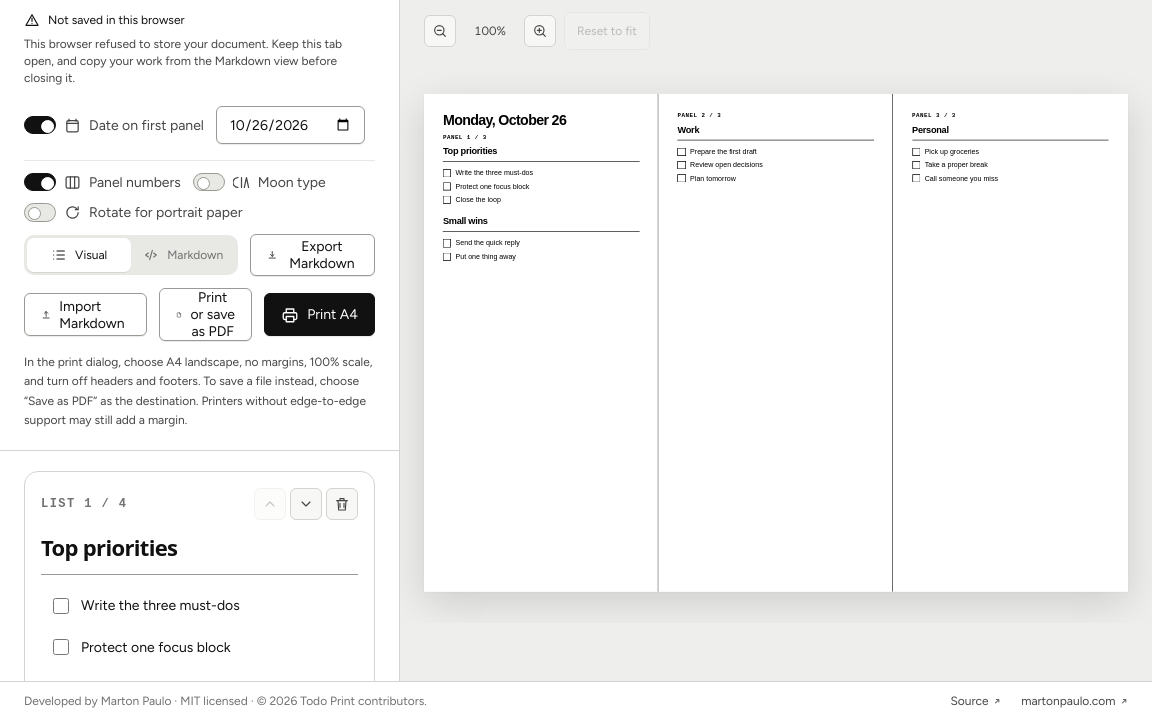
Scenario: App › marks the document unsaved when the browser refuses the write, then clears it once a write succeeds
Step 1. Type "!" into the 1st field → (200, 553), box [41, 532, 358, 575]
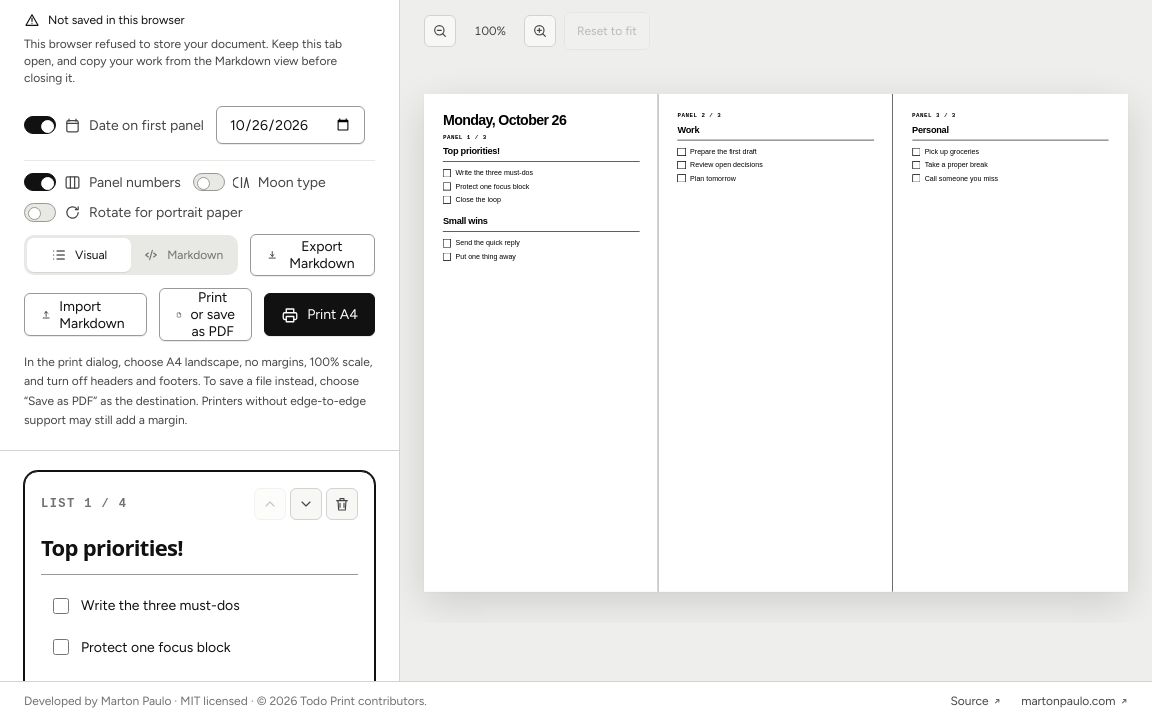
Check: the message reads "Not saved in this browser", box [48, 13, 184, 27]
Check: the text "This browser refused to store your document. Keep this tab open, and copy your work from the Markdown view before closin" is shown, box [24, 37, 342, 85]
Step 2. Type "?" into the 1st field → (200, 553), box [41, 532, 358, 575]
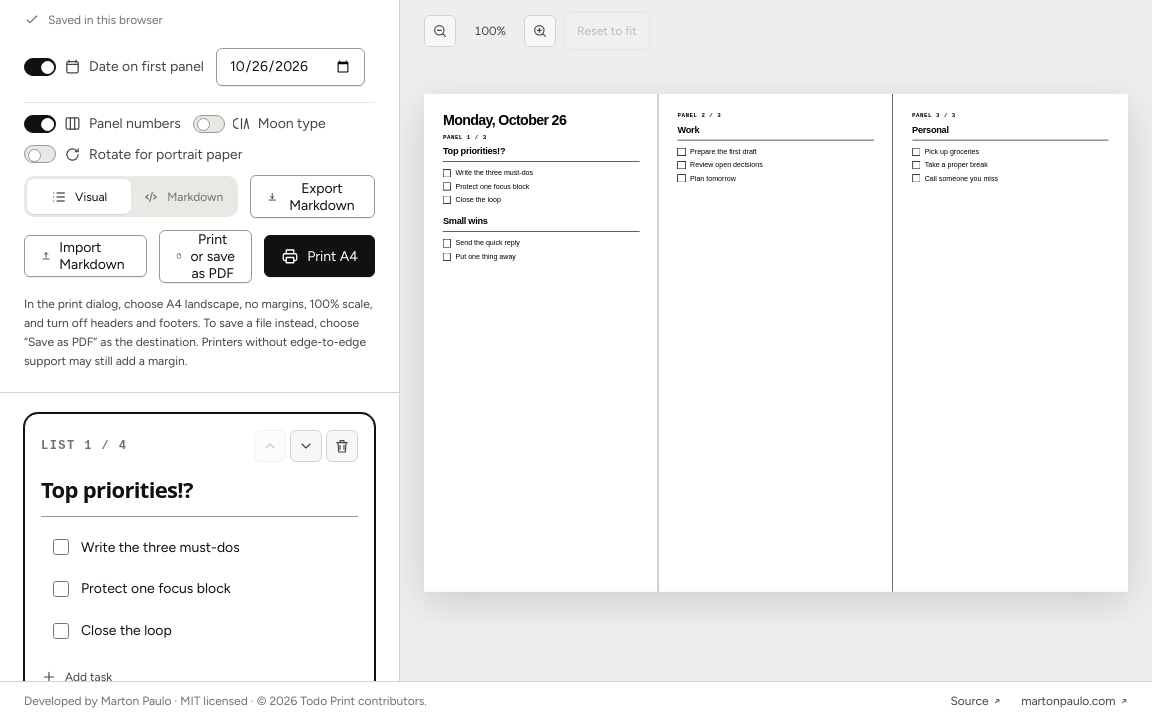
Check: the message reads "Saved in this browser", box [48, 13, 163, 27]
Check: the text "This browser refused to store your document. Keep this tab open, and copy your work from the Markdown view before closin" is gone
